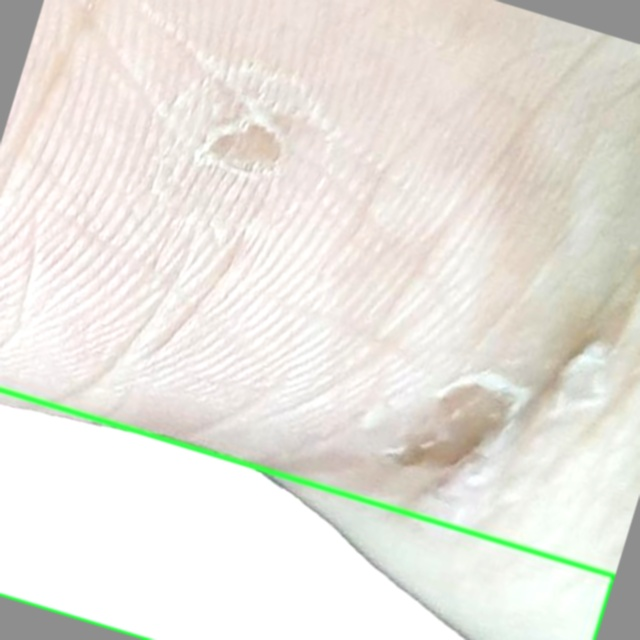Atopic Dermatitis: (0, 390, 614, 639)
